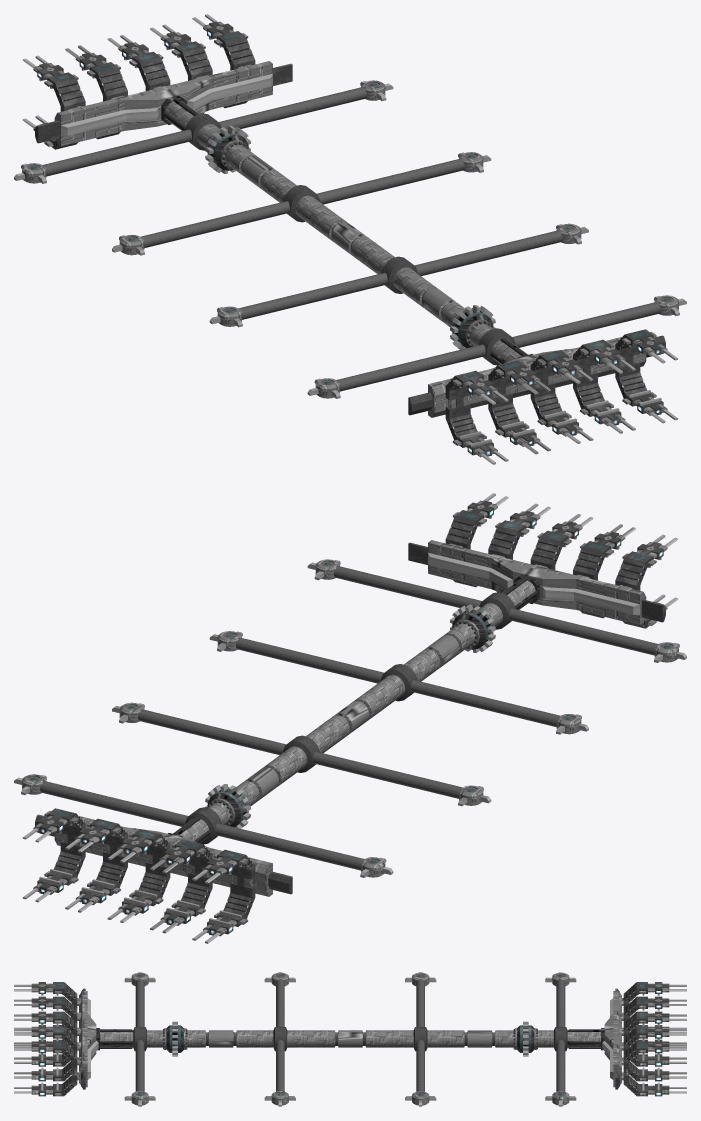
The model's file is station05.glb.
The picture shows the model from 3 angles, top to bottom: view 1: azimuth 30°, elevation 25°; view 2: azimuth 150°, elevation 25°; view 3: azimuth 270°, elevation 25°; orthographic projection. The views are drawn at different scales.
Visible parts, largest first — view 1: Base_LP_cylinder1_default.001; view 2: Base_LP_cylinder1_default.001; view 3: Base_LP_cylinder1_default.001.
Part boxes in pixels (left/top/right/bottom): Base_LP_cylinder1_default.001: left=14, top=14, right=686, bottom=464; Base_LP_cylinder1_default.001: left=14, top=493, right=686, bottom=943; Base_LP_cylinder1_default.001: left=14, top=972, right=686, bottom=1106.
Size of the model in its own units: 17.78 by 3 by 38.4.
1 material, 1 textured.
